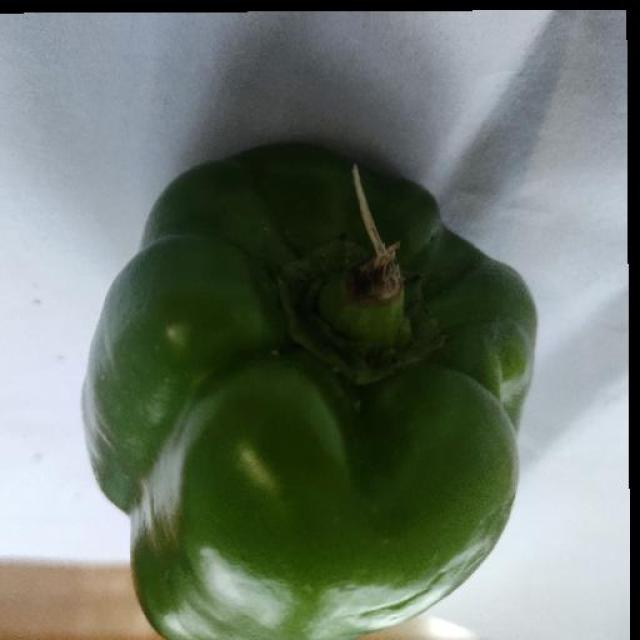Fresh_Capsicum: (112, 145, 519, 632)
